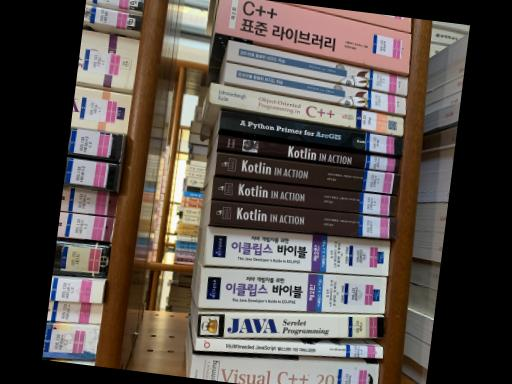book-spine: (215, 0, 411, 73), (209, 81, 404, 135), (227, 39, 407, 94), (224, 60, 406, 113), (204, 224, 391, 275), (199, 266, 387, 312), (219, 109, 403, 153), (214, 151, 401, 193), (212, 175, 397, 215), (210, 199, 397, 238), (218, 132, 400, 171), (190, 354, 379, 384), (197, 313, 384, 336), (196, 336, 383, 356)
